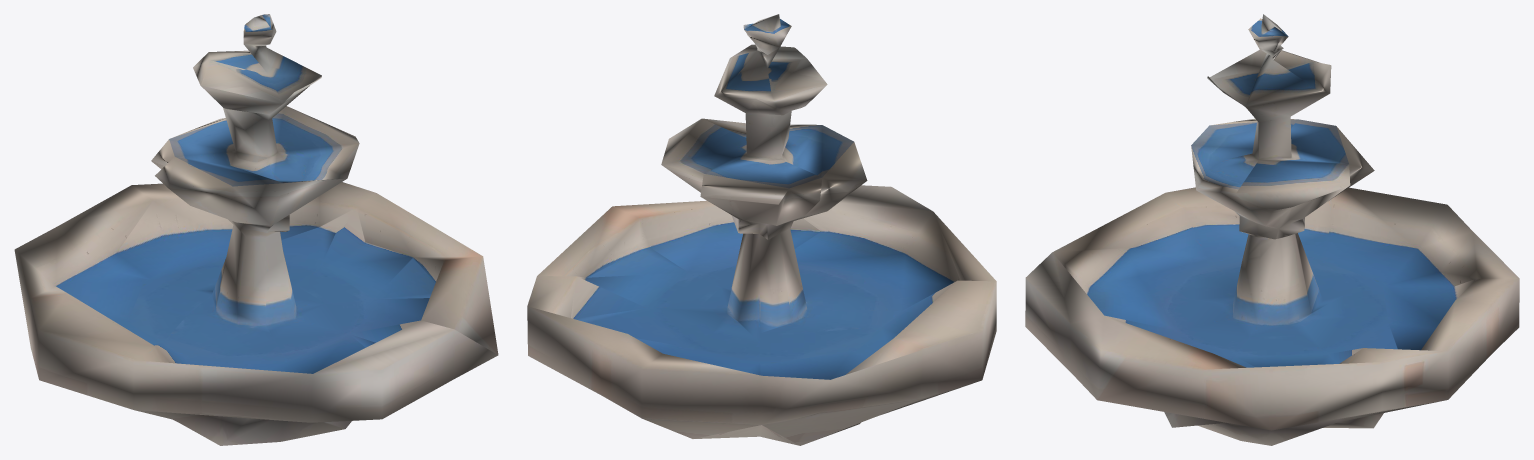
Rendered from fountain.glb.
3 renders of one model, left to right at view 1: azimuth 30°, elevation 25°; view 2: azimuth 150°, elevation 25°; view 3: azimuth 270°, elevation 25°, orthographic.
Parts seen in each view (by area): view 1: tripo_node_d3a8ec7a-8897-4ce3-b084-c060e7747bc3; view 2: tripo_node_d3a8ec7a-8897-4ce3-b084-c060e7747bc3; view 3: tripo_node_d3a8ec7a-8897-4ce3-b084-c060e7747bc3.
Boxes of the visible parts, x1=… form: tripo_node_d3a8ec7a-8897-4ce3-b084-c060e7747bc3: x1=14, y1=14, x2=498, y2=445; tripo_node_d3a8ec7a-8897-4ce3-b084-c060e7747bc3: x1=527, y1=14, x2=996, y2=445; tripo_node_d3a8ec7a-8897-4ce3-b084-c060e7747bc3: x1=1025, y1=14, x2=1519, y2=445.
Size of the model in its own units: 0.9993 by 0.91 by 0.9995.
Materials: 1 (1 with a texture image).
